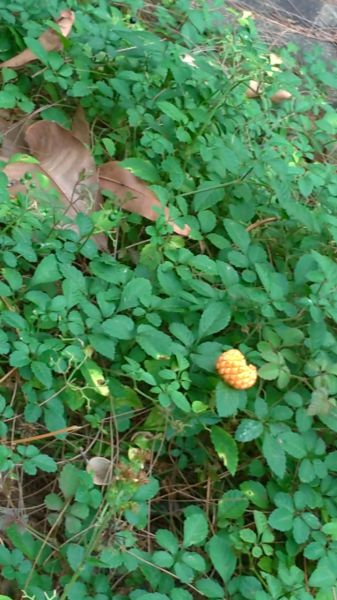eggs: (216, 348, 262, 393)
